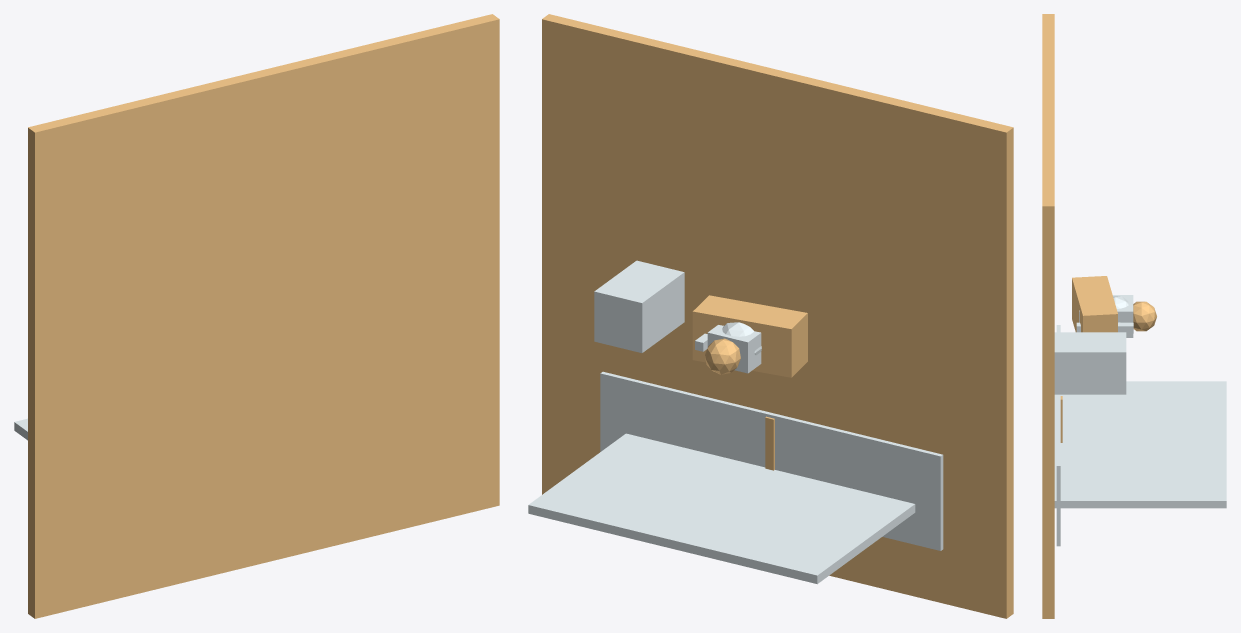
The model's file is gridiron-drive-kit.glb.
3 views of the same model, side by side, from view 1: azimuth 30°, elevation 25°; view 2: azimuth 150°, elevation 25°; view 3: azimuth 270°, elevation 25° (orthographic). The views are drawn at different scales.
Parts seen in each view (by area): view 1: ENVIRONMENT_GROUND; view 2: ENVIRONMENT_GROUND, ENVIRONMENT_GATE, PROFILE_ENVIRONMENT_DETAIL, PROFILE_OBSTACLE_DETAIL, PLAYER_BODY, PROFILE_PLAYER_DETAIL, PROFILE_PLAYER_HEAD; view 3: ENVIRONMENT_GATE, ENVIRONMENT_GROUND, PROFILE_OBSTACLE_DETAIL, PLAYER_BODY, PROFILE_ENVIRONMENT_DETAIL, PROFILE_PLAYER_HEAD, PROFILE_PLAYER_DETAIL.
Part boxes in pixels (bbox=[...]): ENVIRONMENT_GROUND: bbox=[28, 14, 499, 618]; ENVIRONMENT_GROUND: bbox=[542, 14, 1013, 618]; ENVIRONMENT_GATE: bbox=[528, 433, 915, 584]; PROFILE_ENVIRONMENT_DETAIL: bbox=[600, 371, 943, 550]; PROFILE_OBSTACLE_DETAIL: bbox=[594, 260, 684, 352]; PLAYER_BODY: bbox=[692, 295, 807, 377]; PROFILE_PLAYER_DETAIL: bbox=[707, 325, 761, 373]; PROFILE_PLAYER_HEAD: bbox=[705, 338, 740, 374]; ENVIRONMENT_GATE: bbox=[1054, 381, 1226, 508]; ENVIRONMENT_GROUND: bbox=[1042, 14, 1054, 618]; PROFILE_OBSTACLE_DETAIL: bbox=[1054, 332, 1126, 394]; PLAYER_BODY: bbox=[1072, 276, 1117, 332]; PROFILE_ENVIRONMENT_DETAIL: bbox=[1056, 325, 1060, 546]; PROFILE_PLAYER_HEAD: bbox=[1133, 301, 1156, 331]; PROFILE_PLAYER_DETAIL: bbox=[1079, 295, 1133, 337].
Size of what is drawn, in the model's own units: 9 by 9 by 3.64.
